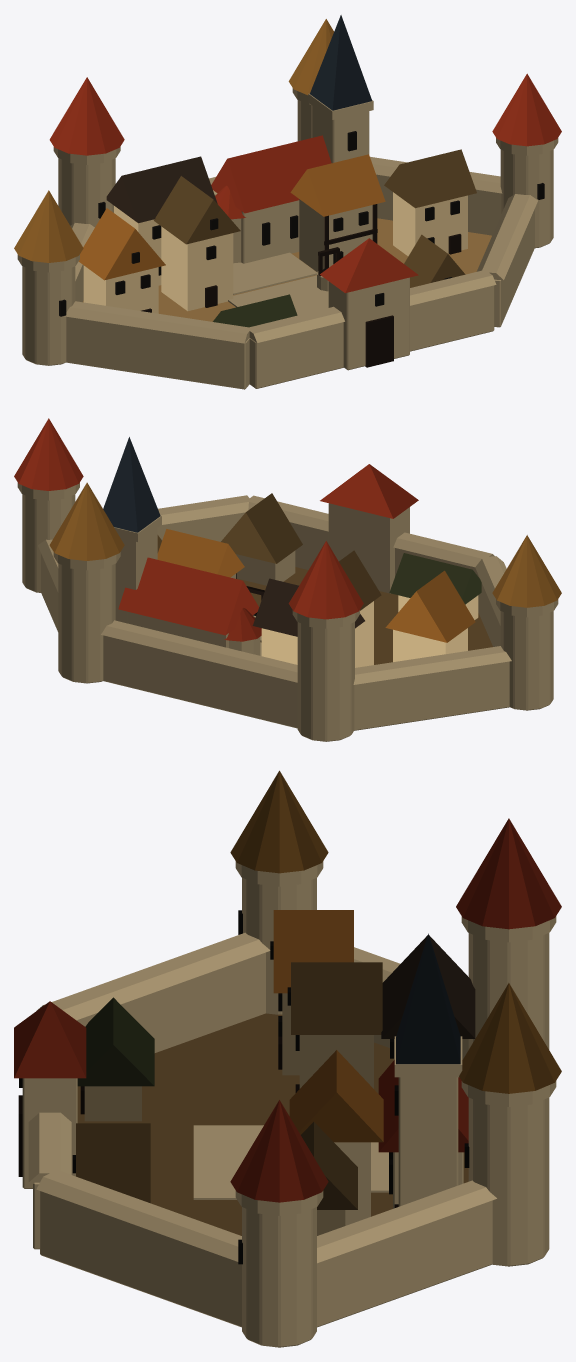
The model's file is settle_1_2.obj.
The picture shows the model from 3 angles, top to bottom: view 1: azimuth 30°, elevation 25°; view 2: azimuth 150°, elevation 25°; view 3: azimuth 270°, elevation 25°; orthographic projection. The views are drawn at different scales.
Parts seen in each view (by area): view 1: core_stone, core_roof_civic, core_plaster, core_roof_thatch_old, core_roof_thatch, core_thatch, core_roof_shingle, core_slate, core_wood_dark, core_cloth, core_window, core_roof_moss; view 2: core_stone, core_roof_civic, core_thatch, core_roof_thatch, core_roof_thatch_old, core_plaster, core_slate, core_cloth, core_roof_moss, core_roof_shingle; view 3: core_stone, core_cloth, core_roof_civic, core_roof_thatch_old, core_thatch, core_roof_thatch, core_plaster, core_slate, core_roof_moss, core_roof_shingle, core_window, core_wood_dark.
Part boxes in pixels (bbox=[...]): core_stone: bbox=[17, 88, 558, 389]; core_roof_civic: bbox=[49, 73, 561, 293]; core_plaster: bbox=[83, 192, 467, 313]; core_roof_thatch_old: bbox=[154, 149, 476, 287]; core_roof_thatch: bbox=[78, 154, 385, 280]; core_thatch: bbox=[14, 19, 333, 262]; core_roof_shingle: bbox=[106, 156, 217, 223]; core_slate: bbox=[310, 15, 372, 110]; core_wood_dark: bbox=[141, 204, 461, 367]; core_cloth: bbox=[83, 218, 491, 321]; core_window: bbox=[59, 131, 544, 316]; core_roof_moss: bbox=[213, 294, 297, 327]; core_stone: bbox=[17, 482, 558, 741]; core_roof_civic: bbox=[14, 418, 418, 641]; core_thatch: bbox=[49, 482, 561, 607]; core_roof_thatch: bbox=[157, 529, 475, 642]; core_roof_thatch_old: bbox=[157, 493, 381, 610]; core_plaster: bbox=[261, 595, 478, 667]; core_slate: bbox=[103, 437, 160, 532]; core_cloth: bbox=[237, 567, 492, 664]; core_roof_moss: bbox=[389, 553, 481, 604]; core_roof_shingle: bbox=[252, 578, 364, 636]; core_stone: bbox=[22, 861, 556, 1347]; core_cloth: bbox=[77, 1013, 468, 1235]; core_roof_civic: bbox=[14, 818, 561, 1202]; core_roof_thatch_old: bbox=[76, 962, 382, 1209]; core_thatch: bbox=[230, 770, 561, 1093]; core_roof_thatch: bbox=[273, 910, 383, 1142]; core_plaster: bbox=[84, 993, 462, 1235]; core_slate: bbox=[396, 933, 460, 1064]; core_roof_moss: bbox=[77, 997, 154, 1086]; core_roof_shingle: bbox=[381, 935, 475, 1038]; core_window: bbox=[19, 910, 469, 1264]; core_wood_dark: bbox=[18, 1036, 398, 1207].
Size of the model in its own units: 1.53 by 0.592 by 0.9566.
